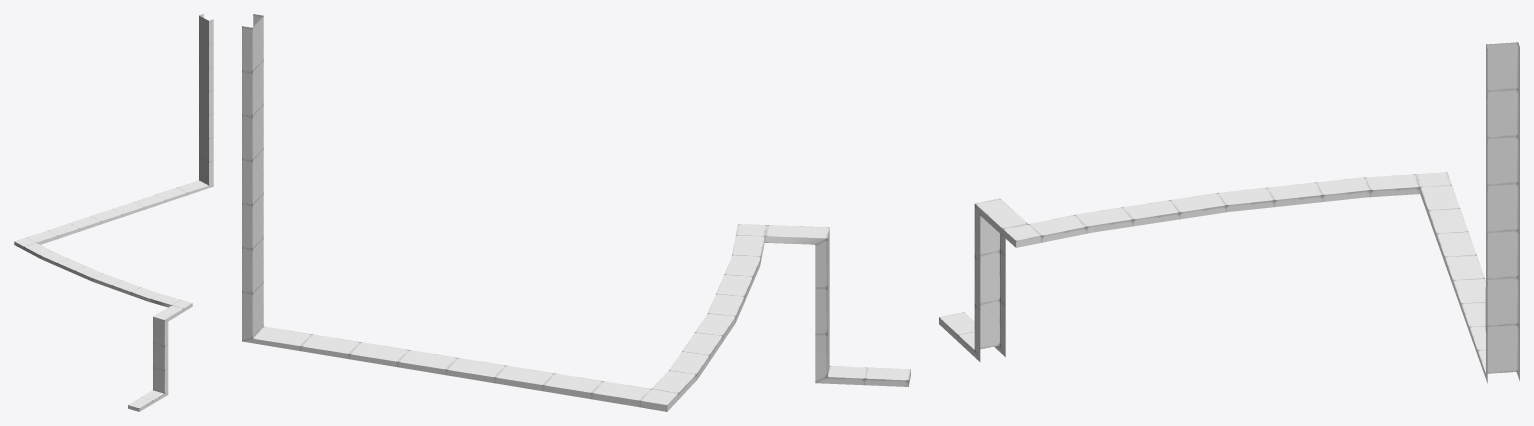
The model's file is SM_world_1_vent.fbx.
3 views of the same model, side by side, from view 1: azimuth 30°, elevation 25°; view 2: azimuth 150°, elevation 25°; view 3: azimuth 270°, elevation 25° (orthographic). The views are drawn at different scales.
Visible parts, largest first — view 1: fan_pipes; view 2: fan_pipes; view 3: fan_pipes.
Part boxes in pixels (x1,y1,x2,y2): fan_pipes: (14,14,213,411); fan_pipes: (242,14,910,411); fan_pipes: (939,42,1519,382).
Size of the model in its own units: 3250 by 3774 by 3451.
